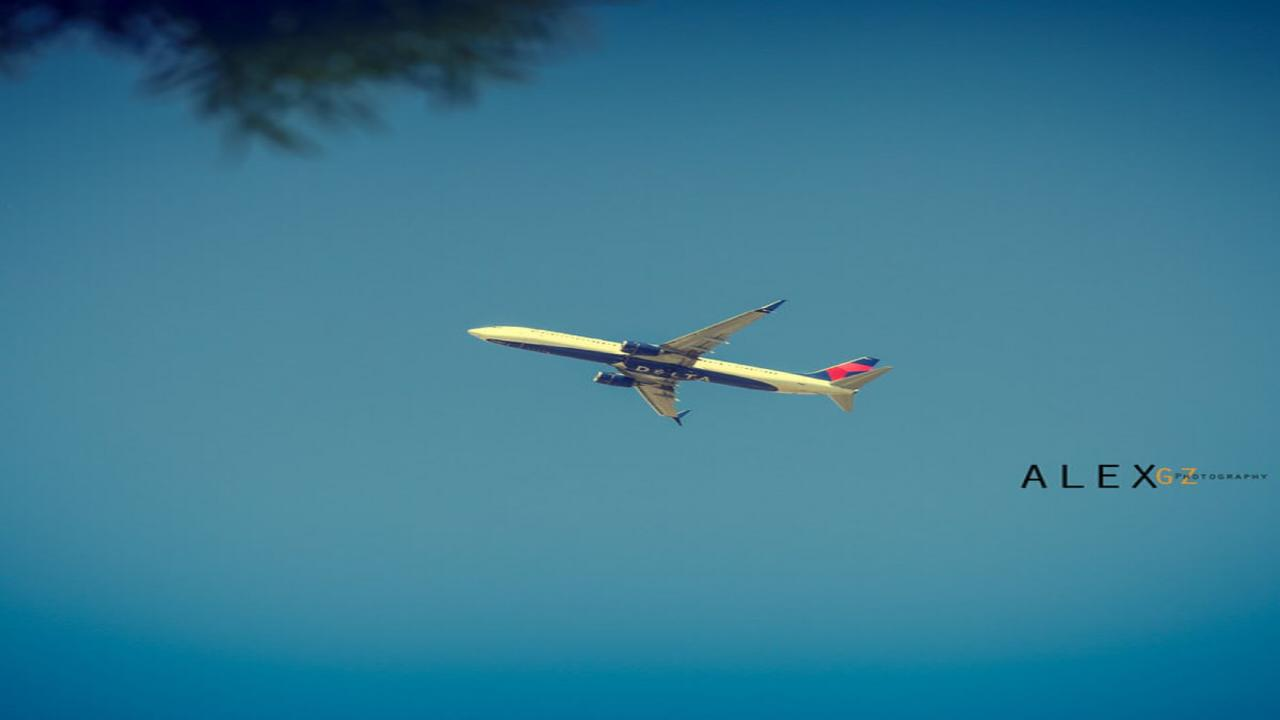Airplane: (450, 286, 914, 439)
